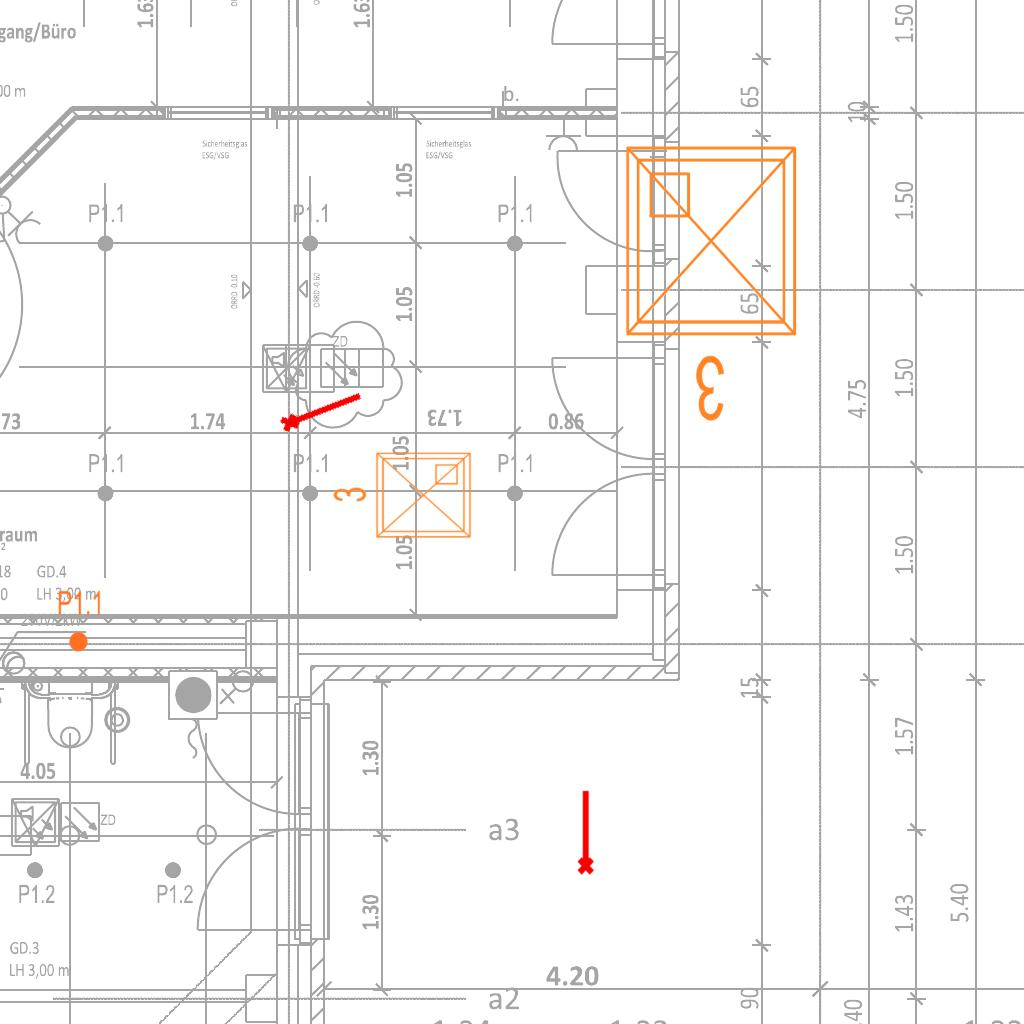ASR_Ansaugoeffnung: (275, 382, 367, 437), (573, 788, 596, 876)
Downlight_LED_Einbauleuchten_Flur: (57, 589, 103, 653)
Einbaudownlights_LED_Konferenzraeume: (611, 132, 819, 432), (328, 445, 478, 549)
